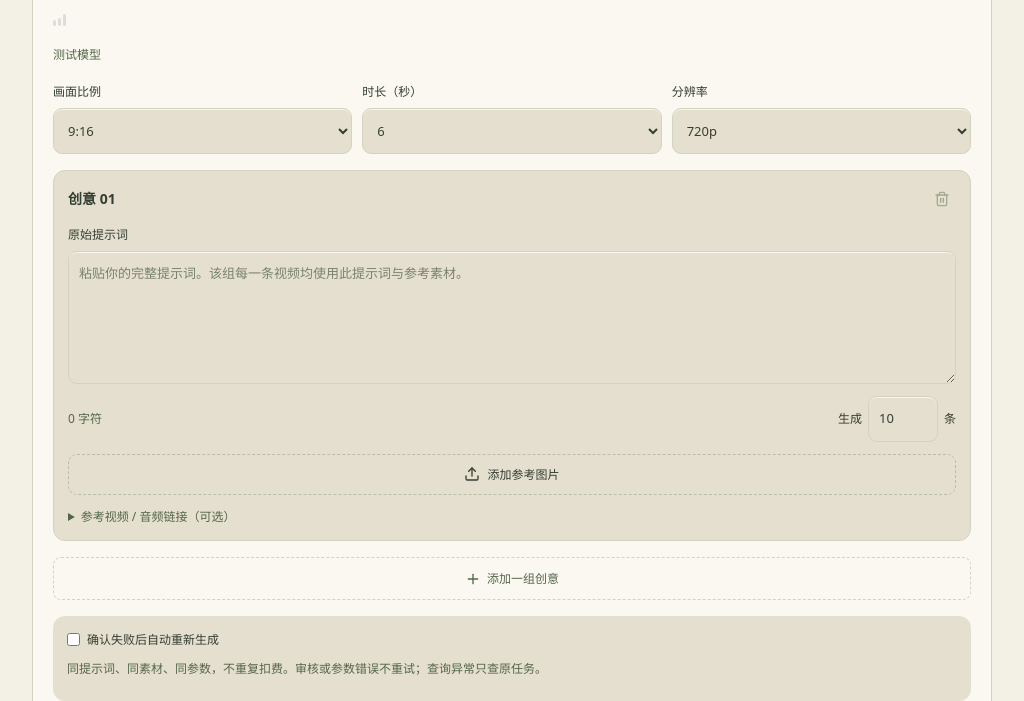
Test: batch page form and prepaid confirmation › starts with auto retry disabled and submits separate unchanged creative prompts/counts for quote
(page scrolled)
expect the checkbox labelled "确认失败后自动重新生成" is not checked: met, box [67,633,80,646]
Type "  第一组用户原词  " into the text box labelled "原始提示词".
click(512, 318); type("  第一组用户原词  ")  # box [68,251,956,384]
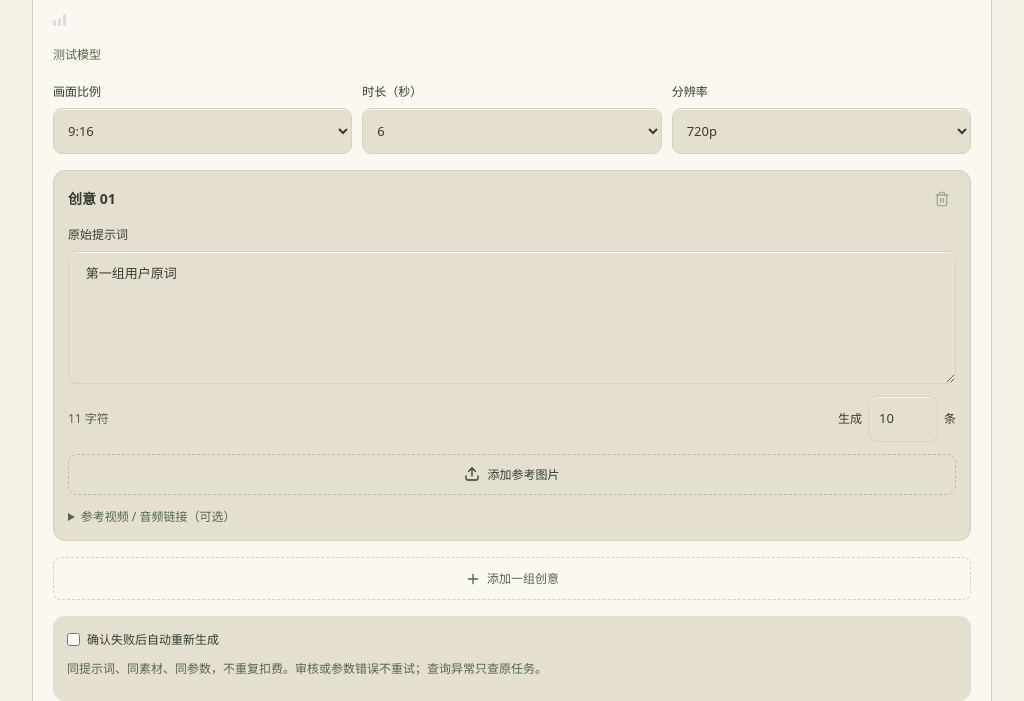
Click the button "添加一组创意".
click(512, 579)  # box [53,557,971,600]
(page scrolled)
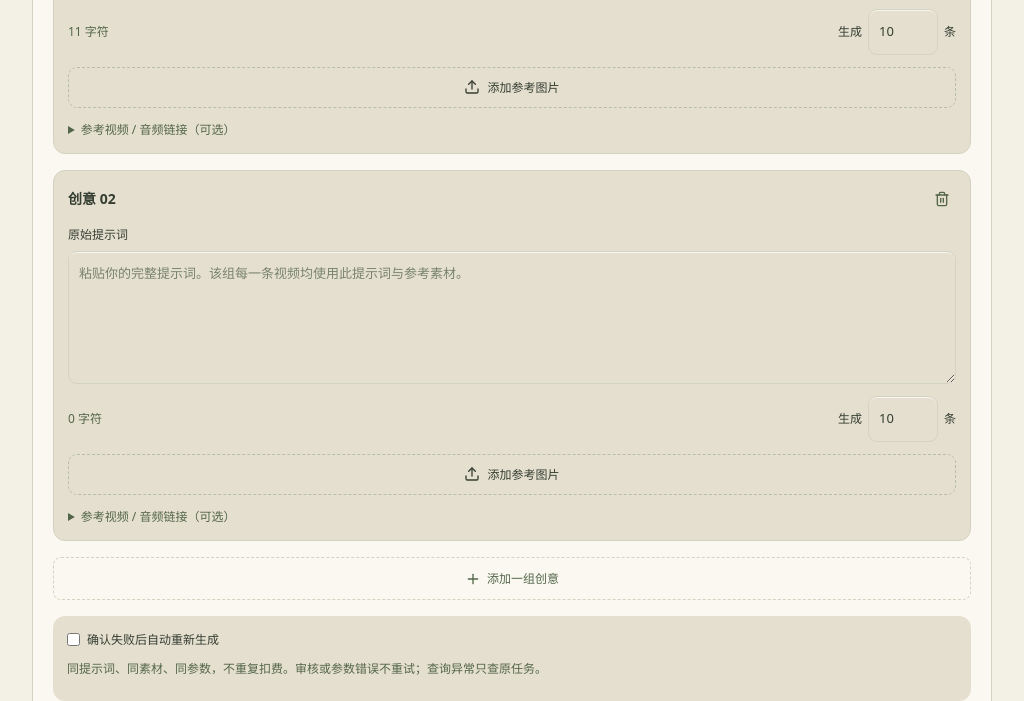
Type "第二组创意" into the text box labelled "原始提示词" below "02".
click(512, 318); type("第二组创意")  # box [68,251,956,384]
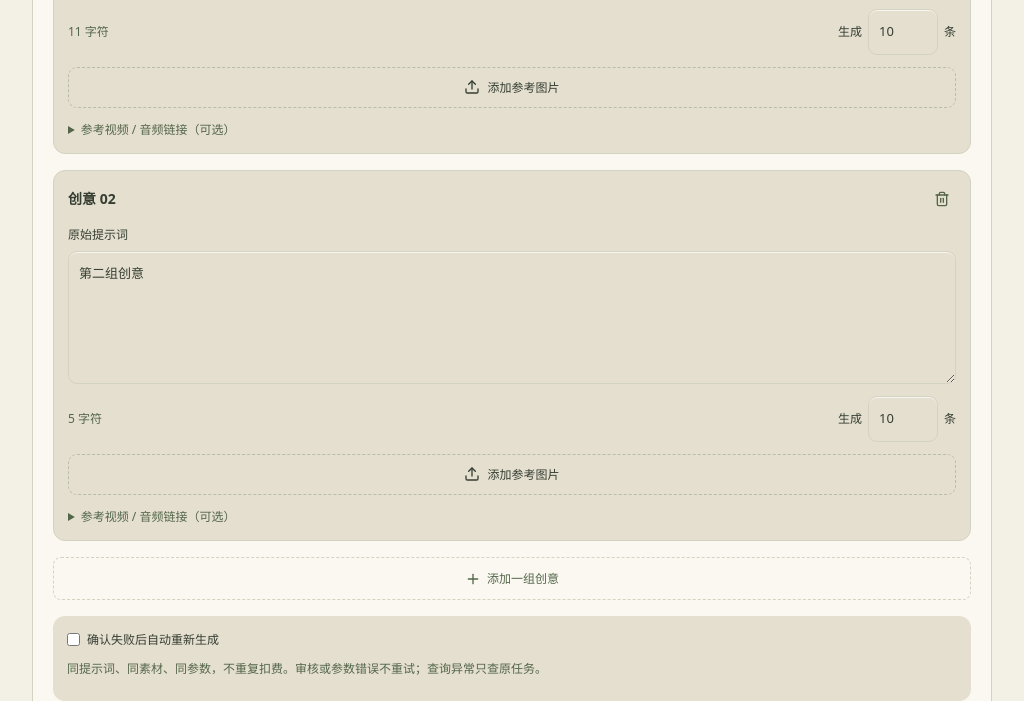
Replace the text in the number field labelled "生成 条" in the row of "11" with "20" at (903, 32), box [868,9,938,55]
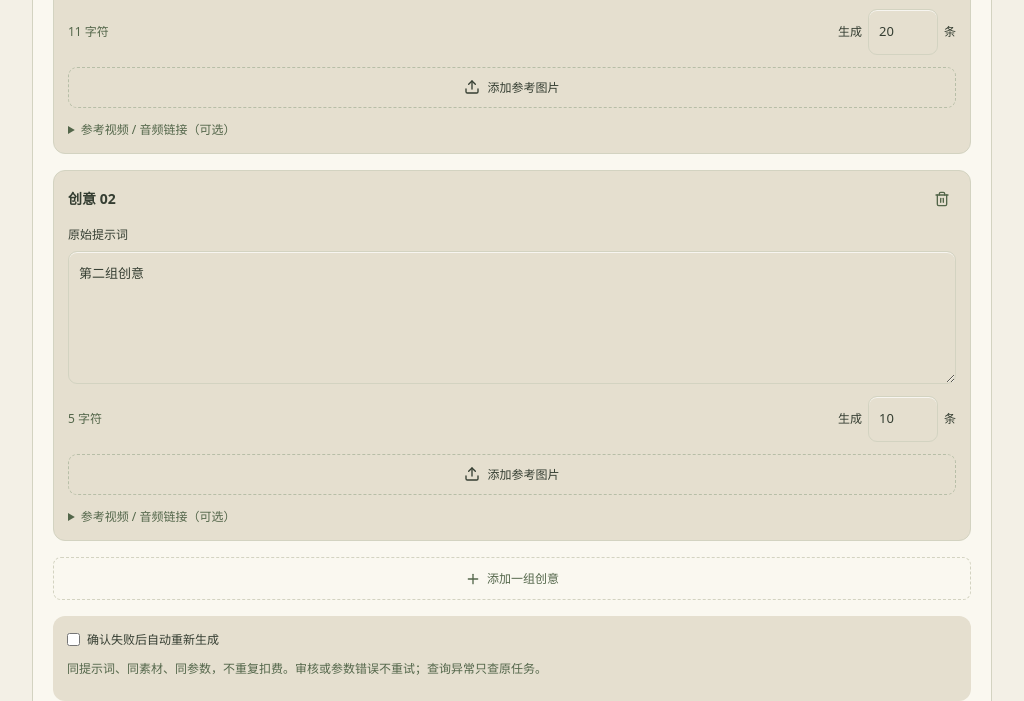
Replace the text in the 2nd number field labelled "生成 条" with "30" at (903, 419), box [868,396,938,442]
(page scrolled)
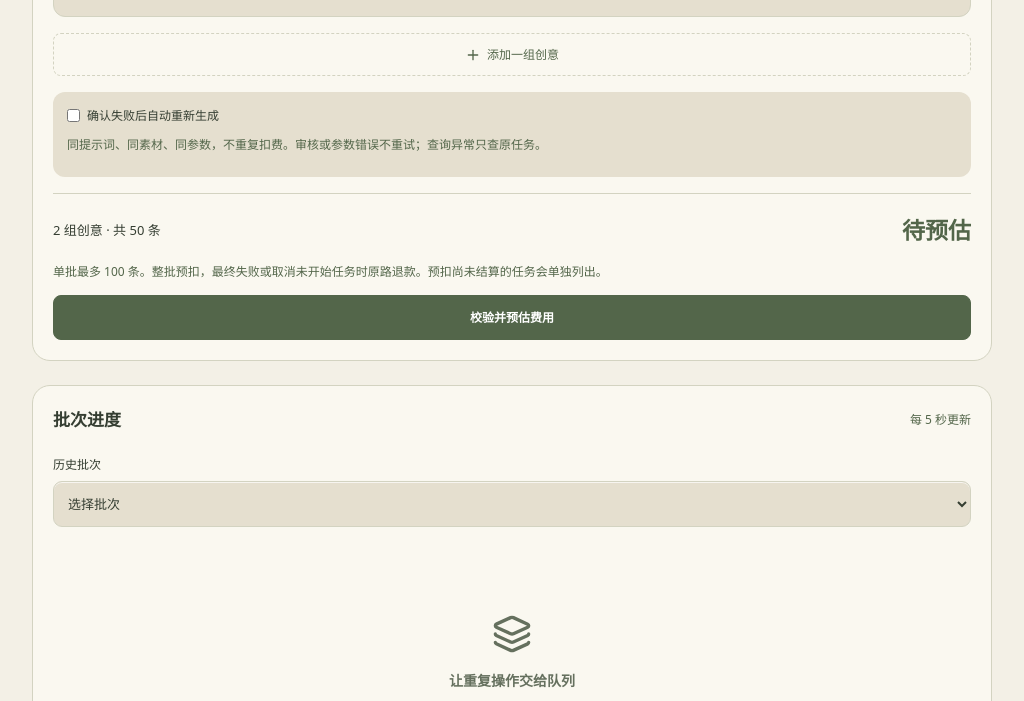
Click the button "校验并预估费用".
click(512, 317)  # box [53,294,971,340]
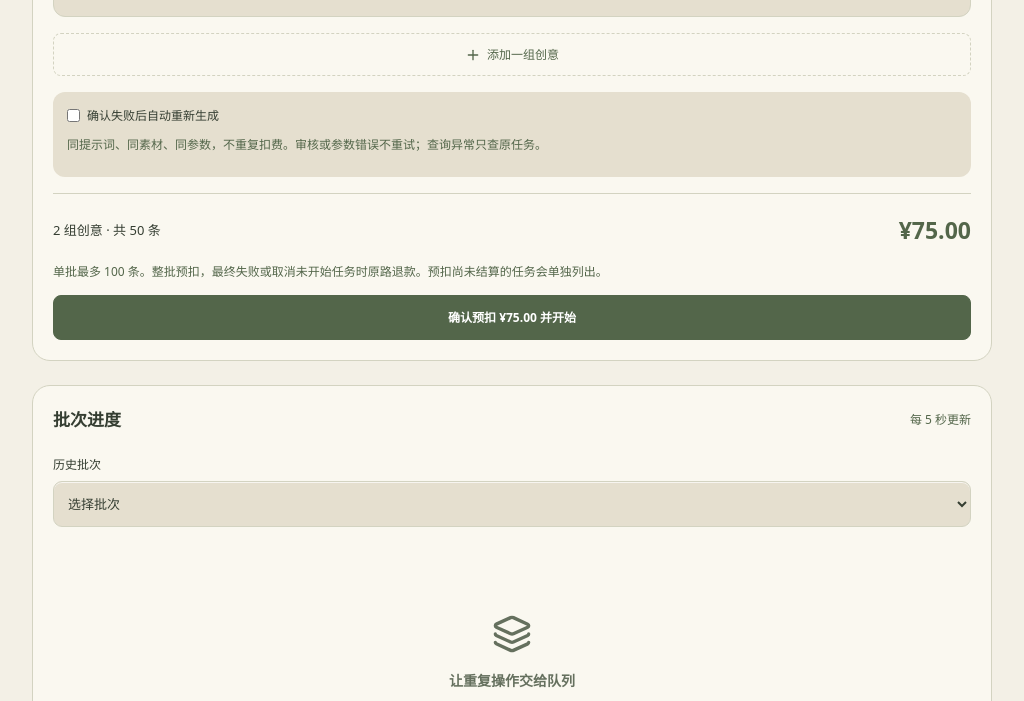
expect the button "确认预扣 ¥75.00 并开始" is shown: met, box [53,294,971,340]
